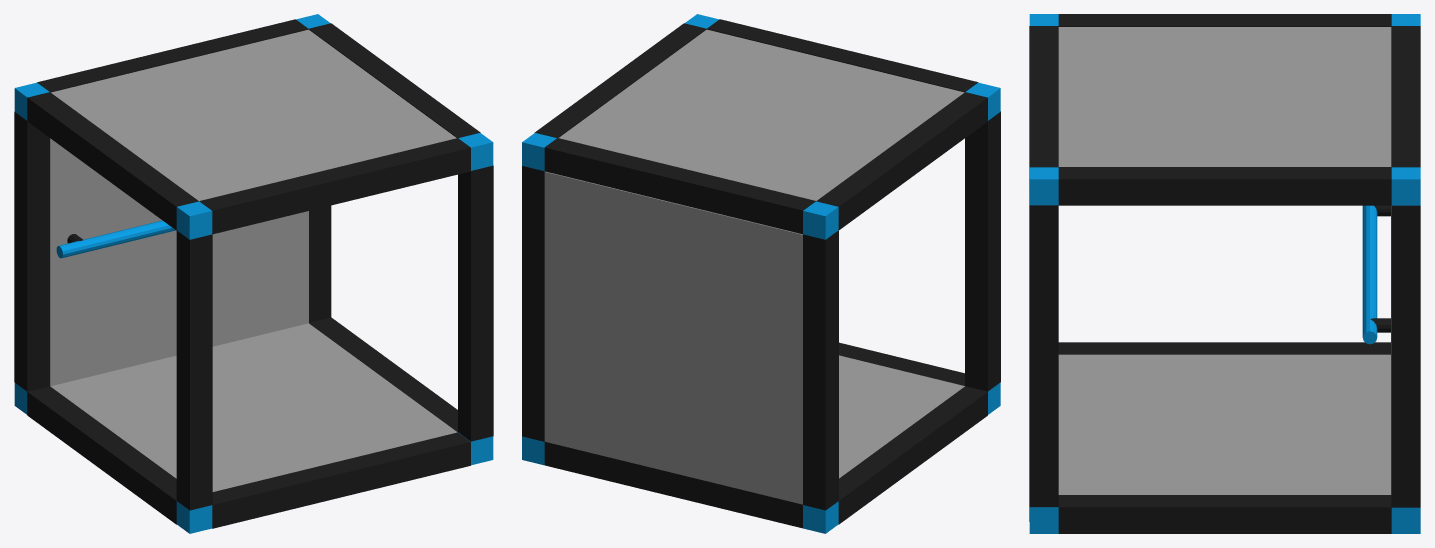
File: Tshape.obj
3 renders of one model, left to right at view 1: azimuth 30°, elevation 25°; view 2: azimuth 150°, elevation 25°; view 3: azimuth 270°, elevation 25°, orthographic. The views are drawn at different scales.
Parts seen in each view (by area): view 1: group1005772507, group963054373, group1070944959, group1556195603, group709435993, group1226622267, group2054616965, group966415300, group1138974461, group684207257, group583785649, group538804669 (+8 smaller); view 2: group963054373, group1005772507, group966415300, group583785649, group1556195603, group1070944959, group1138974461, group684207257, group1853298346, group62390541, group1226622267, group538804669 (+6 smaller); view 3: group1070944959, group1005772507, group227590905, group538804669, group709435993, group62390541, group1138974461, group684207257, group1226622267, group583785649, group816366035, group1413469223 (+3 smaller).
Part boxes in pixels (box(x1,y1,x2,y2)): group1005772507: box(51, 29, 456, 200); group963054373: box(50, 138, 308, 386); group1070944959: box(50, 323, 457, 491); group1556195603: box(176, 230, 212, 510); group709435993: box(458, 165, 493, 441); group1226622267: box(199, 138, 470, 234); group2054616965: box(212, 432, 470, 528); group966415300: box(14, 111, 49, 391); group1138974461: box(27, 92, 198, 230); group684207257: box(27, 386, 176, 524); group583785649: box(37, 19, 308, 92); group538804669: box(308, 23, 480, 137); group963054373: box(544, 171, 802, 504); group1005772507: box(559, 29, 964, 200); group966415300: box(803, 230, 838, 510); group583785649: box(544, 138, 815, 234); group1556195603: box(965, 111, 1000, 391); group1070944959: box(839, 355, 964, 478); group1138974461: box(816, 92, 987, 230); group684207257: box(838, 386, 987, 524); group1853298346: box(544, 442, 802, 528); group62390541: box(522, 166, 544, 441); group1226622267: box(706, 19, 978, 92); group538804669: box(534, 23, 706, 137); group1070944959: box(1058, 354, 1390, 494); group1005772507: box(1058, 27, 1391, 166); group227590905: box(1058, 495, 1391, 533); group538804669: box(1058, 167, 1391, 205); group709435993: box(1029, 193, 1058, 507); group62390541: box(1391, 205, 1420, 507); group1138974461: box(1058, 14, 1391, 26); group684207257: box(1058, 342, 1390, 354); group1226622267: box(1029, 26, 1058, 192); group583785649: box(1391, 26, 1420, 167); group816366035: box(1362, 205, 1377, 344); group1413469223: box(1391, 167, 1420, 205).
Bounding box in the file's own units: 0.5409 × 0.5413 × 0.5404.
